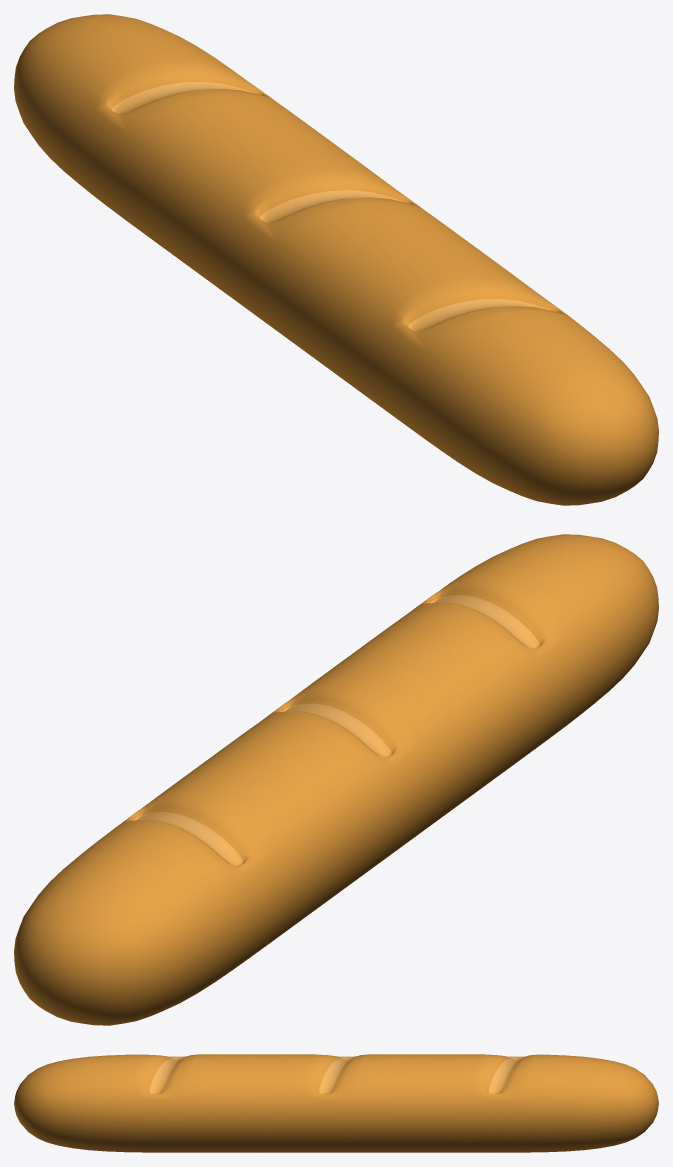
File: Single_Baguette.fbx
3 renders of one model, top to bottom at view 1: azimuth 30°, elevation 25°; view 2: azimuth 150°, elevation 25°; view 3: azimuth 270°, elevation 25°, orthographic. The views are drawn at different scales.
Parts seen in each view (by area): view 1: Single_Baguette; view 2: Single_Baguette; view 3: Single_Baguette.
Part boxes in pixels (bbox=[...]): Single_Baguette: bbox=[14, 14, 658, 505]; Single_Baguette: bbox=[14, 534, 658, 1025]; Single_Baguette: bbox=[14, 1054, 658, 1152].
Size of the model in its own units: 6.86 by 5.49 by 38.32.
